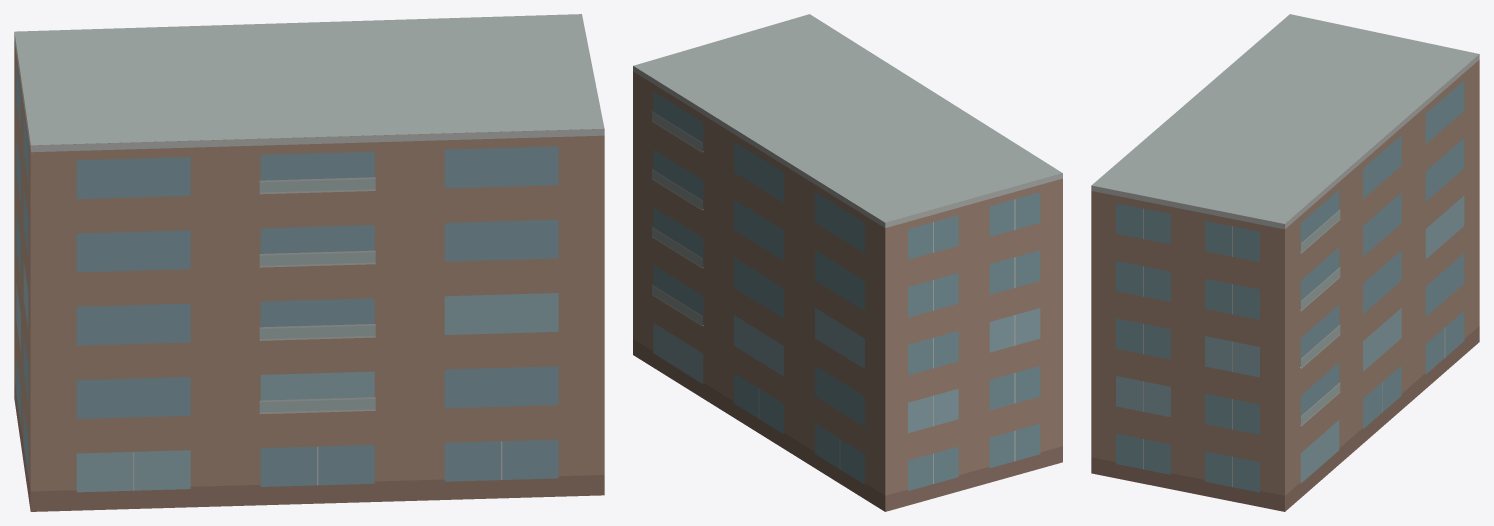
File: survey-upis-33028596.glb
3 renders of one model, left to right at view 1: azimuth 30°, elevation 25°; view 2: azimuth 150°, elevation 25°; view 3: azimuth 270°, elevation 25°, orthographic. The views are drawn at different scales.
Parts seen in each view (by area): view 1: survey-upis-33028596.tmp; view 2: survey-upis-33028596.tmp; view 3: survey-upis-33028596.tmp.
Boxes of the visible parts, bbox=[...] form: survey-upis-33028596.tmp: bbox=[14, 14, 604, 511]; survey-upis-33028596.tmp: bbox=[633, 14, 1062, 511]; survey-upis-33028596.tmp: bbox=[1091, 14, 1479, 511].
Bounding box in the file's own units: 20.35 × 13 × 15.9.
